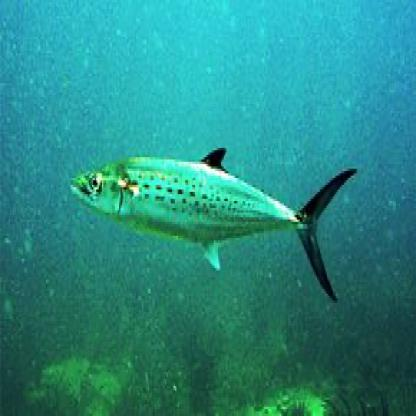tuna: (61, 133, 364, 313)
